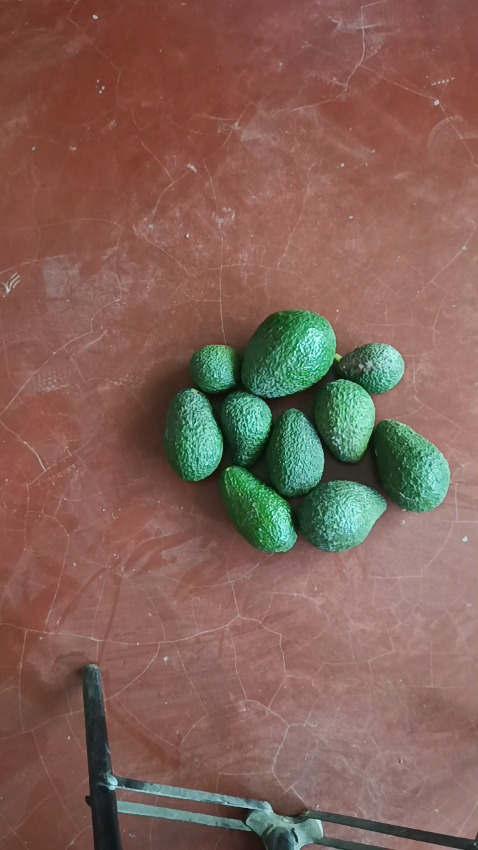Primera: (240, 309, 337, 398)
Segunda: (371, 420, 449, 511), (296, 479, 388, 552), (220, 466, 297, 552), (163, 386, 223, 480), (313, 378, 376, 463), (264, 408, 324, 496)
Tercera: (219, 390, 273, 468), (334, 342, 405, 395), (188, 344, 240, 395)
